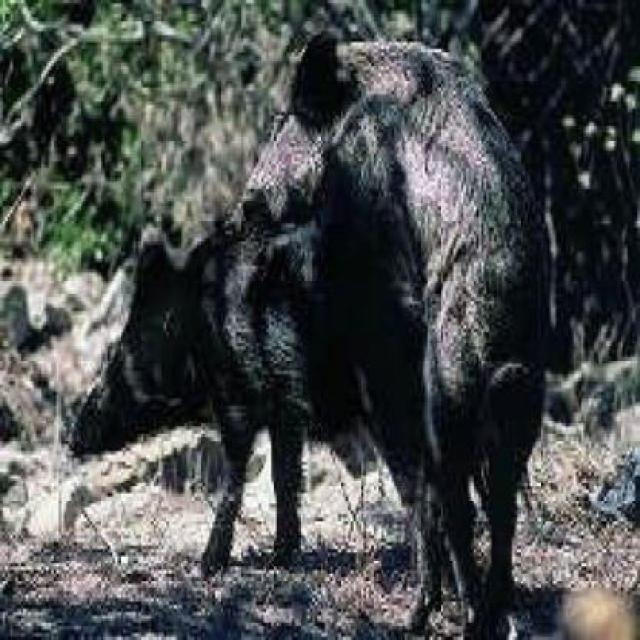Boar: (246, 11, 592, 598), (66, 157, 437, 605)
